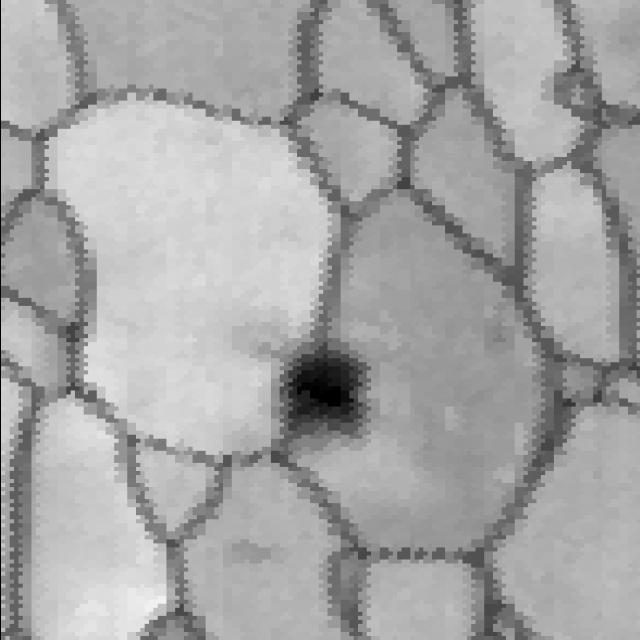good_void: (274, 325, 390, 454)
